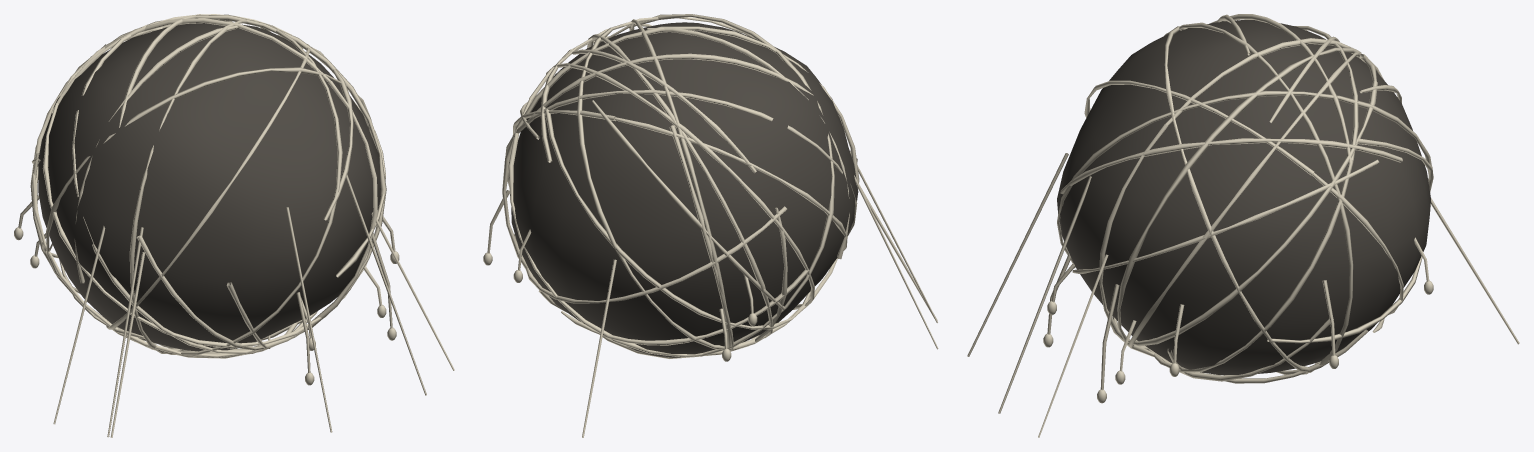
The model's file is egg_sac.glb.
The picture shows the model from 3 angles, left to right: view 1: azimuth 30°, elevation 25°; view 2: azimuth 150°, elevation 25°; view 3: azimuth 270°, elevation 25°; orthographic projection. The views are drawn at different scales.
Visible parts, largest first — view 1: Sac; view 2: Sac; view 3: Sac.
Boxes of the visible parts, box(x1,y1,x2,y2) form: Sac: box(14, 14, 454, 437); Sac: box(483, 14, 938, 437); Sac: box(967, 14, 1519, 437).
Size of the model in its own units: 1.22 by 0.9943 by 1.5.
